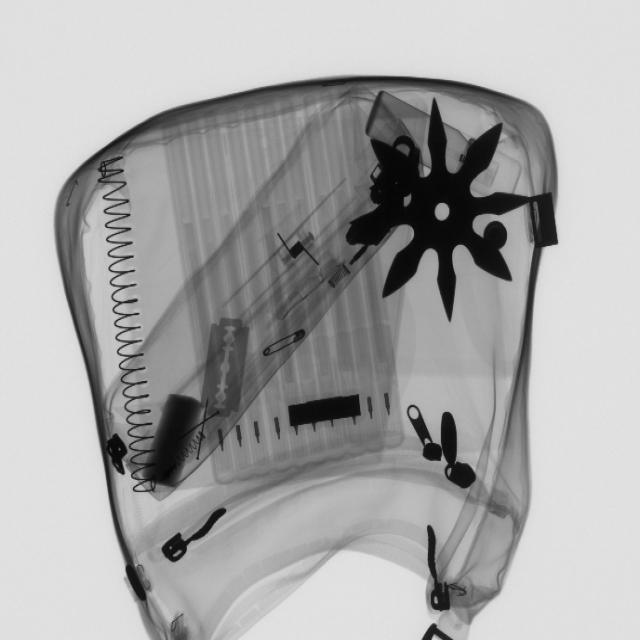BLADE: (198, 311, 255, 432)
SHURIKEN: (357, 97, 532, 326)
